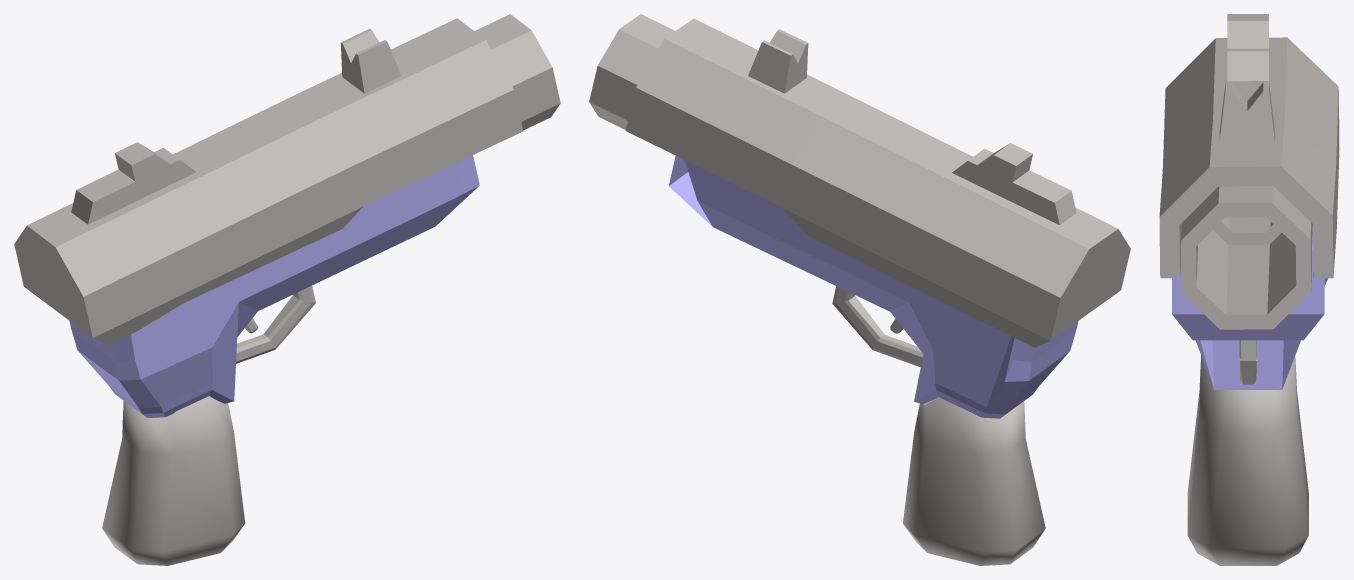
File: n_pistol.fbx
3 views of the same model, side by side, from view 1: azimuth 30°, elevation 25°; view 2: azimuth 150°, elevation 25°; view 3: azimuth 270°, elevation 25° (orthographic). The views are drawn at different scales.
Parts seen in each view (by area): view 1: Cylinder; view 2: Cylinder; view 3: Cylinder.
Part boxes in pixels (x1,y1,x2,y2): Cylinder: [14, 14, 560, 565]; Cylinder: [589, 14, 1130, 565]; Cylinder: [1159, 14, 1339, 565].
Bounding box in the file's own units: 1331 × 1175 × 336.
